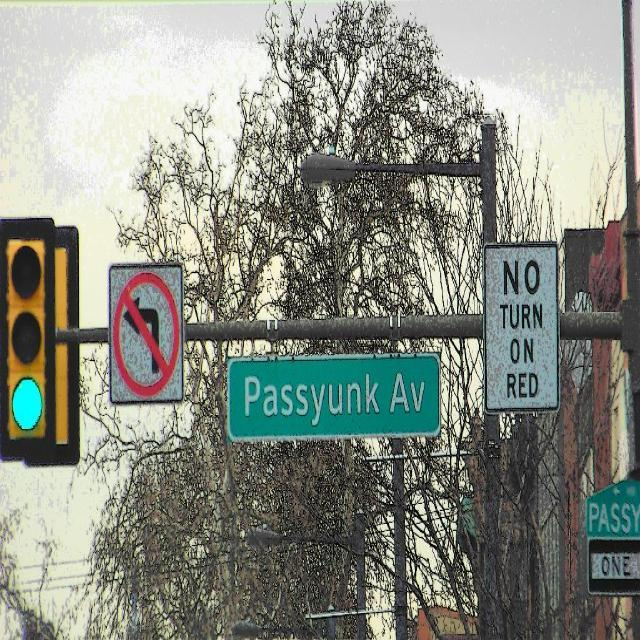road_sign: (105, 260, 184, 402)
traffic light: (4, 234, 55, 437)
